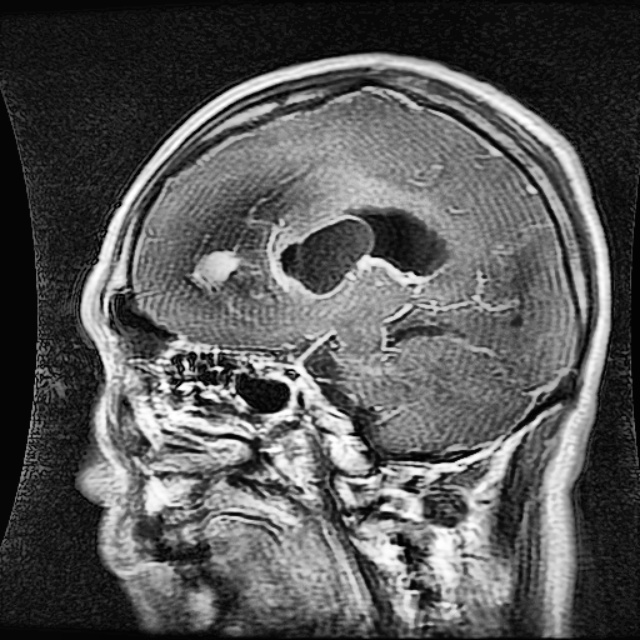Meningioma: (277, 212, 378, 294)
